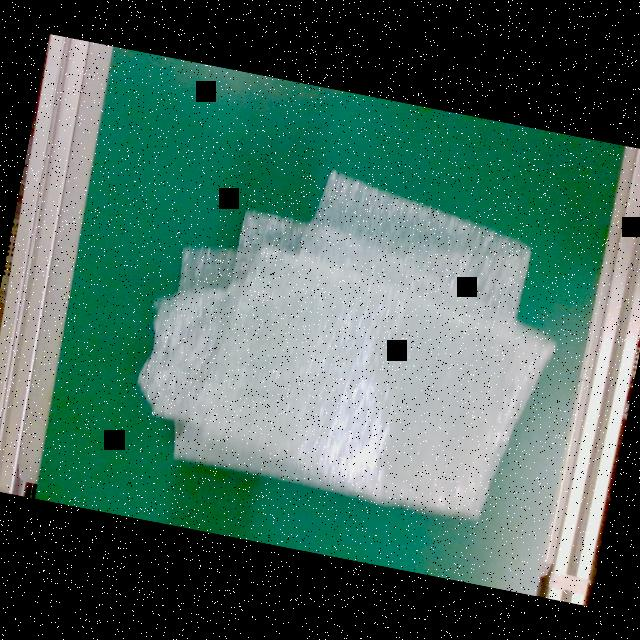scrap_plastic: (121, 135, 588, 532)
